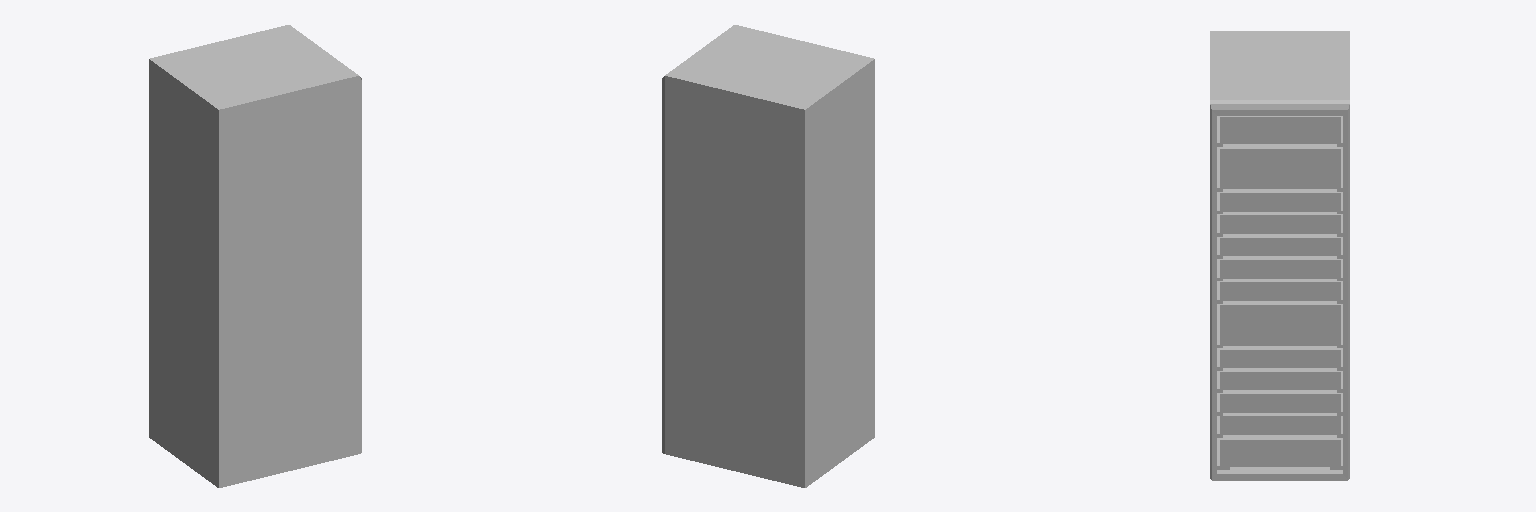
Rendered from jigui.obj.
3 renders of one model, left to right at view 1: azimuth 30°, elevation 25°; view 2: azimuth 150°, elevation 25°; view 3: azimuth 270°, elevation 25°, orthographic.
Visible parts, largest first — view 1: rack; view 2: rack; view 3: rack, 2u_nas1, ups, misc1, misc2, 1u_server9, 1u_server6, 1u_server2, 1u_server8, 1u_server5, 1u_server4, 1u_server7 (+2 smaller).
Boxes of the visible parts, x1,y1,x2,y2 form: rack: [149, 25, 361, 487]; rack: [662, 25, 874, 487]; rack: [1210, 31, 1349, 480]; 2u_nas1: [1220, 301, 1340, 345]; ups: [1220, 144, 1340, 188]; misc1: [1220, 435, 1340, 466]; misc2: [1220, 116, 1340, 143]; 1u_server9: [1220, 189, 1340, 211]; 1u_server6: [1220, 256, 1340, 278]; 1u_server2: [1220, 390, 1340, 412]; 1u_server8: [1220, 212, 1340, 233]; 1u_server5: [1220, 279, 1340, 300]; 1u_server4: [1220, 346, 1340, 367]; 1u_server7: [1220, 234, 1340, 255].
Bounding box in the file's own units: 2.06 × 5.15 × 1.72.